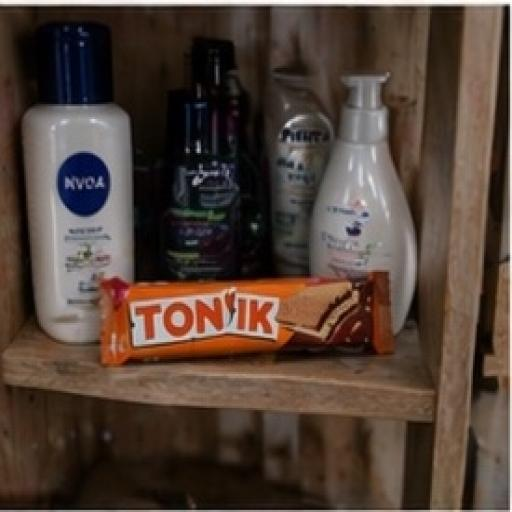tonik: (43, 208, 429, 413)
